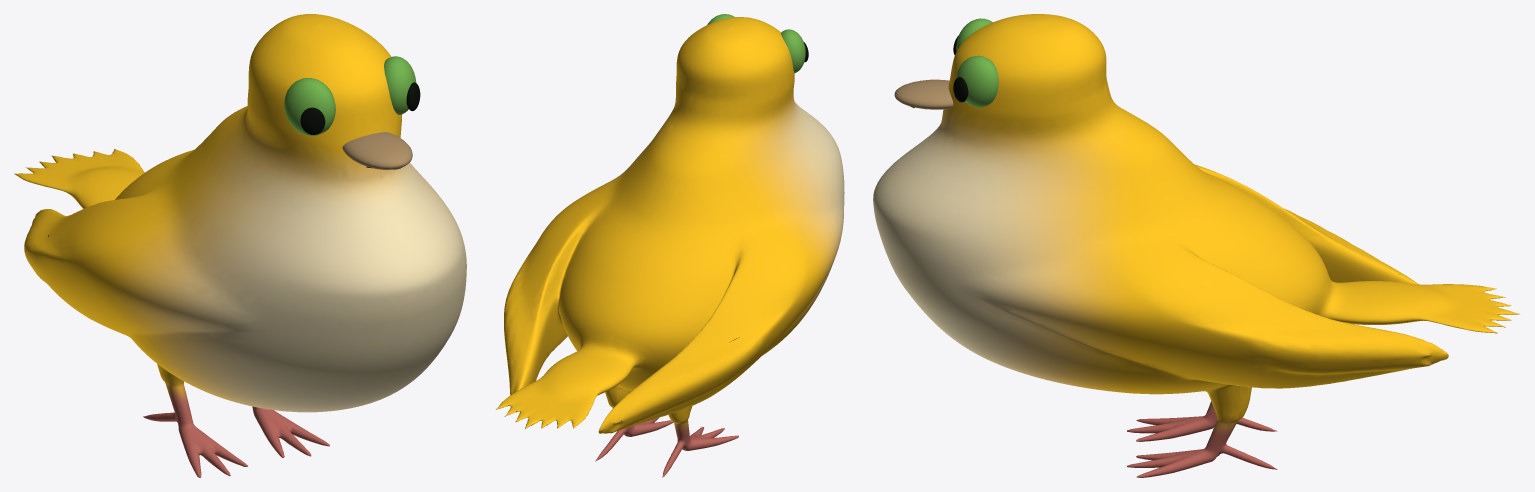
The model's file is picker.fbx.
3 views of the same model, side by side, from view 1: azimuth 30°, elevation 25°; view 2: azimuth 150°, elevation 25°; view 3: azimuth 270°, elevation 25° (orthographic). The views are drawn at different scales.
Visible parts, largest first — view 1: NaiGe_normal; view 2: NaiGe_normal; view 3: NaiGe_normal.
Boxes of the visible parts, x1,y1,x2,y2 form: NaiGe_normal: [14, 14, 466, 477]; NaiGe_normal: [496, 14, 844, 477]; NaiGe_normal: [873, 14, 1519, 477].
Bounding box in the file's own units: 12.66 × 17.42 × 23.82.
